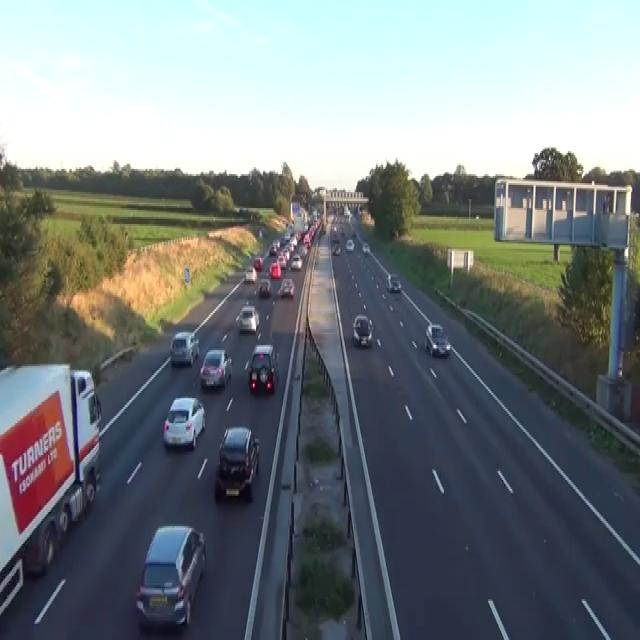Car: (135, 523, 206, 629), (214, 425, 260, 499), (162, 396, 205, 450), (245, 343, 279, 395), (199, 348, 232, 389), (169, 331, 199, 366), (424, 322, 450, 356), (352, 313, 372, 347), (235, 304, 259, 332), (277, 277, 295, 297), (386, 272, 401, 292), (258, 277, 271, 295), (244, 265, 256, 283), (269, 262, 281, 278), (291, 254, 302, 270), (277, 252, 286, 268), (253, 256, 263, 270), (345, 238, 354, 251), (298, 245, 307, 258), (331, 228, 339, 242), (332, 242, 341, 254), (289, 236, 297, 249), (303, 235, 311, 247), (269, 244, 276, 256), (362, 242, 370, 252), (273, 238, 280, 249), (308, 226, 314, 238), (279, 235, 286, 245), (284, 230, 290, 238), (258, 228, 262, 238), (340, 228, 345, 236), (322, 224, 326, 233), (351, 230, 356, 237), (332, 224, 337, 231)
Truck: (0, 361, 101, 617)
